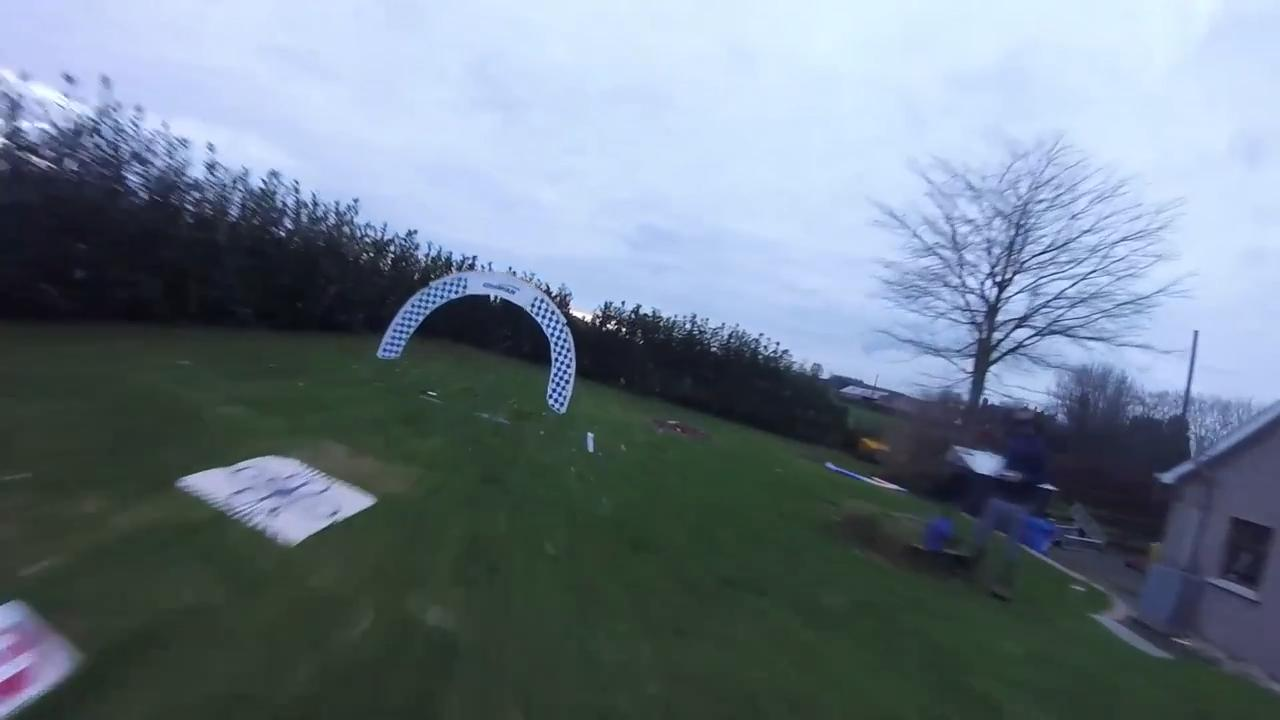gate: (379, 267, 580, 421)
